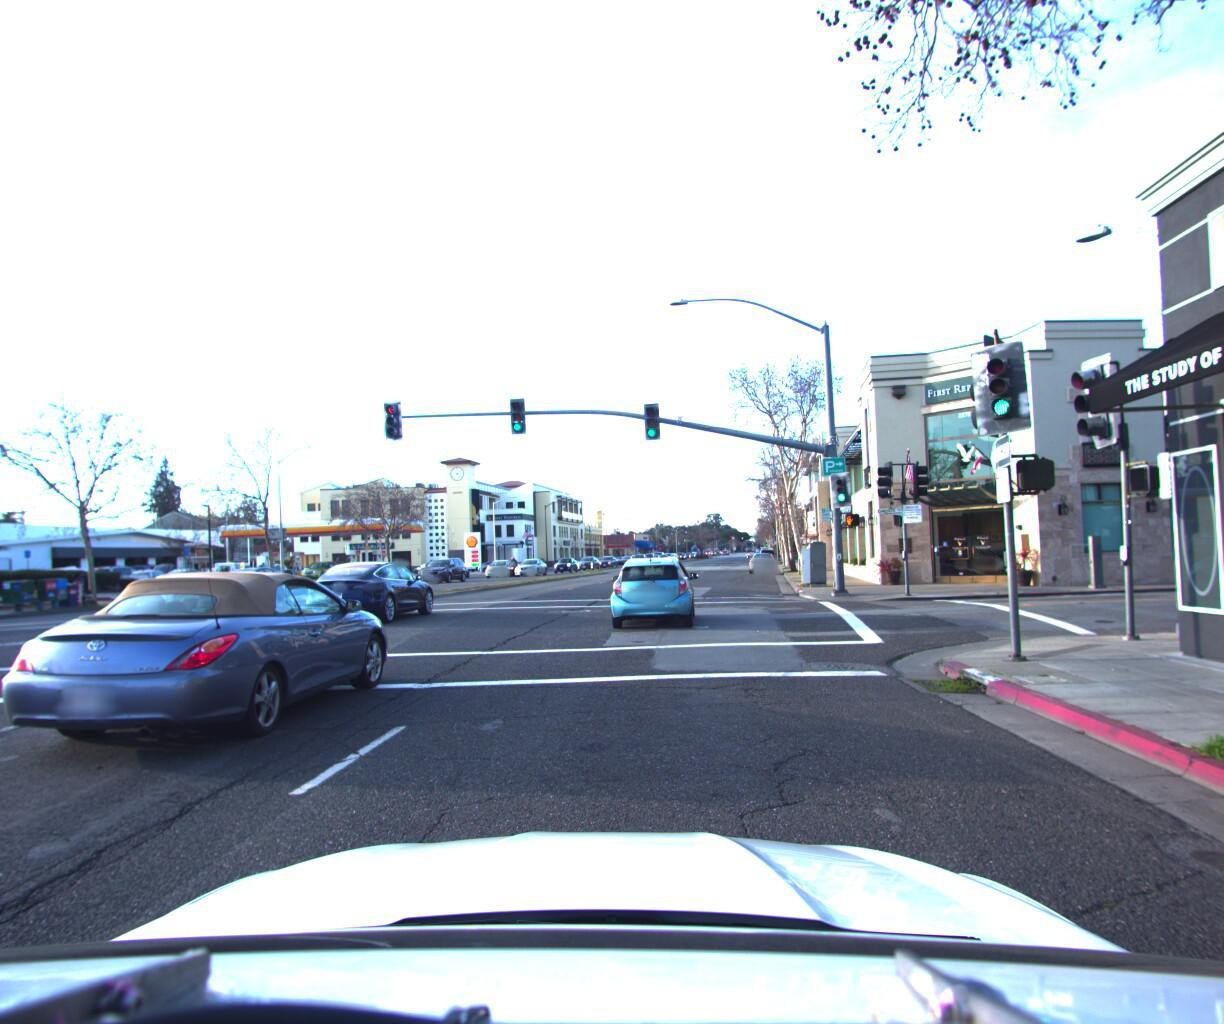car: (0, 559, 406, 776), (302, 553, 439, 624), (608, 549, 695, 630), (189, 560, 288, 604), (188, 556, 263, 592), (81, 561, 156, 593), (37, 564, 108, 591), (119, 566, 185, 592), (418, 550, 474, 580), (295, 557, 341, 580), (481, 553, 518, 574), (744, 546, 774, 571), (513, 552, 550, 573), (551, 551, 580, 569)
motorcycle: (504, 549, 522, 570)
